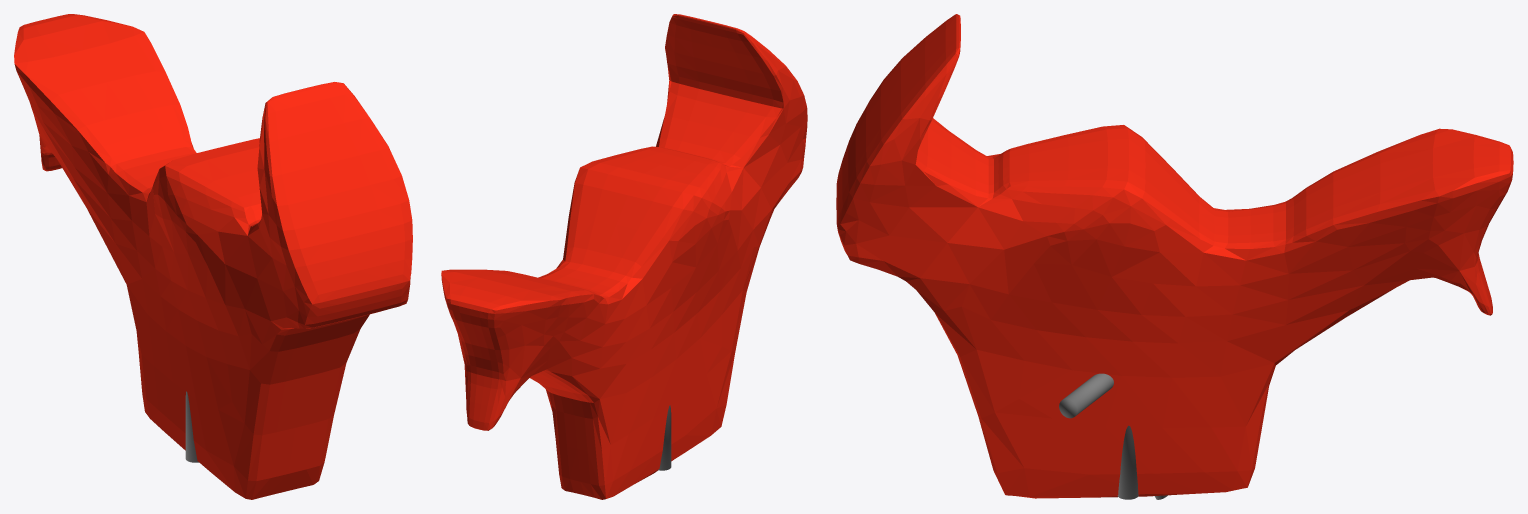
Rendered from bike.obj.
3 renders of one model, left to right at view 1: azimuth 30°, elevation 25°; view 2: azimuth 150°, elevation 25°; view 3: azimuth 270°, elevation 25°, orthographic. The views are drawn at different scales.
Visible parts, largest first — view 1: bike, front_suspension; view 2: bike, front_suspension; view 3: bike, handlebar, front_suspension.
Boxes of the visible parts, <box> form: bike: <box>14,14,412,499</box>; front_suspension: <box>185,391,198,462</box>; bike: <box>441,14,807,499</box>; front_suspension: <box>658,405,671,470</box>; bike: <box>836,14,1513,498</box>; handlebar: <box>1059,373,1167,499</box>; front_suspension: <box>1117,425,1138,499</box>.
Bounding box in the file's own units: 0.5258 × 1.33 × 1.75.
